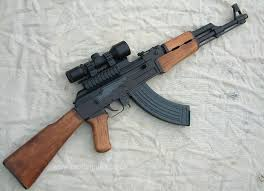Arma Real: (2, 3, 248, 183)
